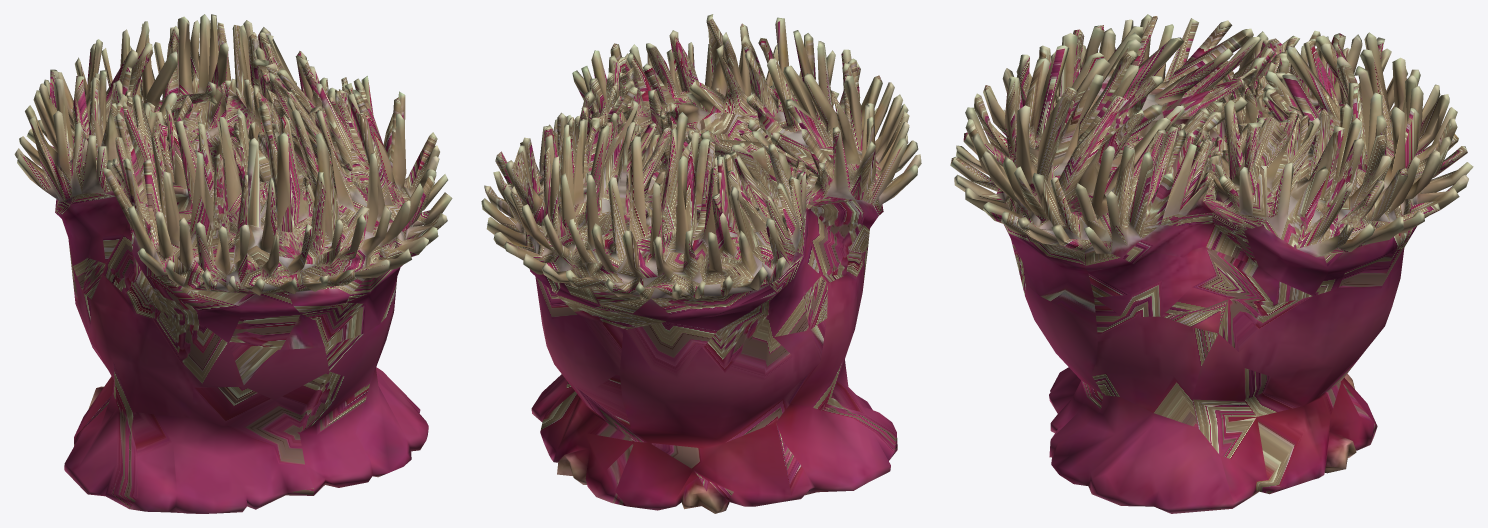
The model's file is anemoon.glb.
3 views of the same model, side by side, from view 1: azimuth 30°, elevation 25°; view 2: azimuth 150°, elevation 25°; view 3: azimuth 270°, elevation 25° (orthographic). The views are drawn at different scales.
Parts seen in each view (by area): view 1: tripo_node_0ea04cc3-b10a-4bb1-8ad5-daf15173cab9; view 2: tripo_node_0ea04cc3-b10a-4bb1-8ad5-daf15173cab9; view 3: tripo_node_0ea04cc3-b10a-4bb1-8ad5-daf15173cab9.
Part boxes in pixels (left/top/right/bottom): tripo_node_0ea04cc3-b10a-4bb1-8ad5-daf15173cab9: left=14, top=14, right=452, bottom=513; tripo_node_0ea04cc3-b10a-4bb1-8ad5-daf15173cab9: left=481, top=14, right=921, bottom=513; tripo_node_0ea04cc3-b10a-4bb1-8ad5-daf15173cab9: left=950, top=14, right=1473, bottom=513.
Bounding box in the file's own units: 0.1879 × 0.1994 × 0.2491.
Materials: 1 (1 with a texture image).
